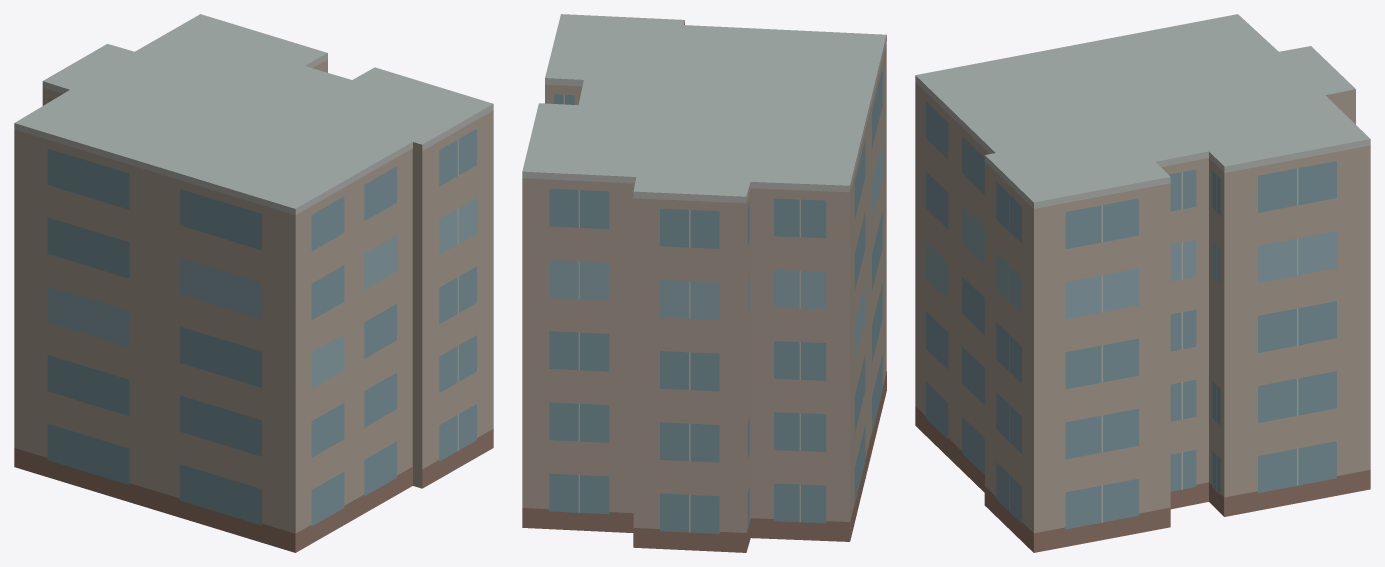
Rendered from survey-upis-33013762.glb.
3 views of the same model, side by side, from view 1: azimuth 30°, elevation 25°; view 2: azimuth 150°, elevation 25°; view 3: azimuth 270°, elevation 25° (orthographic). The views are drawn at different scales.
Visible parts, largest first — view 1: survey-upis-33013762.tmp; view 2: survey-upis-33013762.tmp; view 3: survey-upis-33013762.tmp.
Part boxes in pixels (<box>): survey-upis-33013762.tmp: <box>14,14,493,552</box>; survey-upis-33013762.tmp: <box>522,14,886,552</box>; survey-upis-33013762.tmp: <box>915,14,1370,552</box>.
Bounding box in the file's own units: 15.24 × 13.2 × 15.56.
